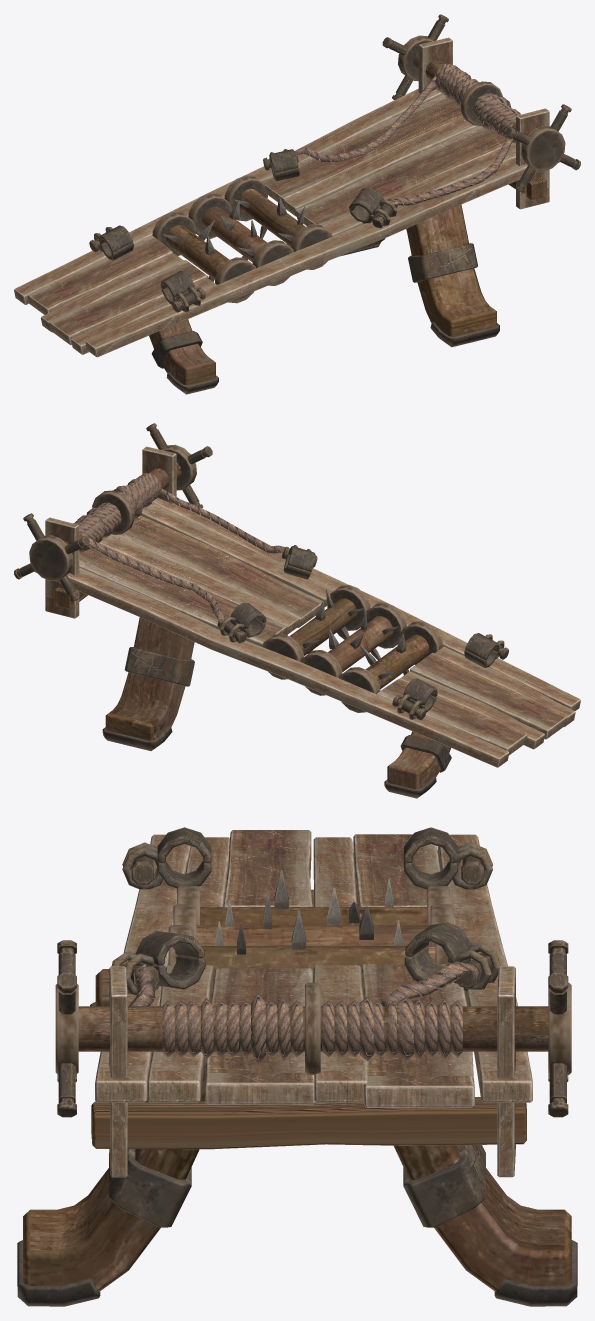
3 renders of one model, top to bottom at view 1: azimuth 30°, elevation 25°; view 2: azimuth 150°, elevation 25°; view 3: azimuth 270°, elevation 25°, orthographic. The views are drawn at different scales.
Visible parts, largest first — view 1: SM_DR_Torture_Table_02_LOD0; view 2: SM_DR_Torture_Table_02_LOD0; view 3: SM_DR_Torture_Table_02_LOD0.
Part boxes in pixels (x1=…): SM_DR_Torture_Table_02_LOD0: x1=14, y1=14, x2=580, y2=394; SM_DR_Torture_Table_02_LOD0: x1=14, y1=423, x2=580, y2=798; SM_DR_Torture_Table_02_LOD0: x1=17, y1=827, x2=577, y2=1306.
Bounding box in the file's own units: 4.11 × 1.72 × 2.12.
Materials: 4 (4 with a texture image).
